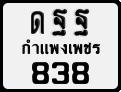letters: (52, 8, 68, 37), (31, 61, 50, 84), (74, 8, 89, 37), (51, 61, 69, 85), (72, 62, 89, 84), (30, 10, 44, 35)
province: (21, 39, 100, 55)
